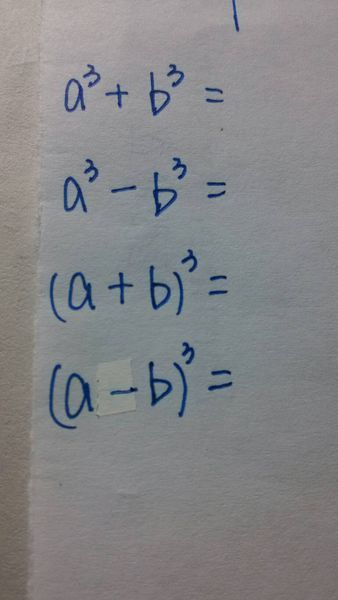cube: (162, 62, 190, 92), (168, 153, 195, 183), (174, 337, 196, 369), (182, 241, 200, 279), (81, 155, 100, 189), (85, 61, 100, 89)
